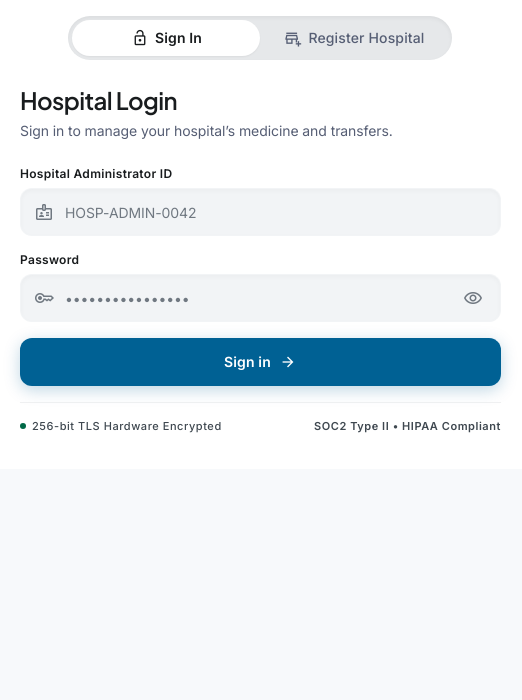
it: PulseGrid Control Tower Test Suite › AuthFormPanel Component › switches between Sign In and Register Hospital tabs
This screenshot has width=522, height=700.
Click the button "Register Hospital". click: point(354, 38)
box: [260,20,448,56]
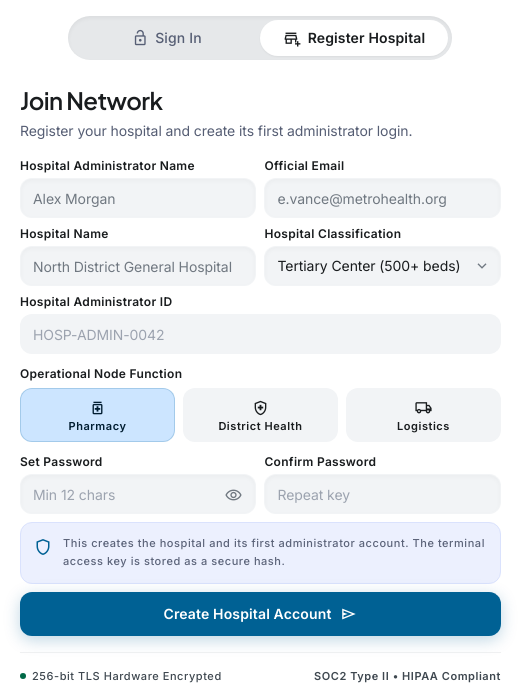
Result: the heading "Join Network" is shown at [20,85,162,115]
Result: the field labelled "Hospital Administrator Name" is shown at [20,178,256,218]
Result: the field labelled "Hospital Name" is shown at [20,246,256,286]
Click the button "Sign In". click: point(166, 38)
box: [72,20,260,56]
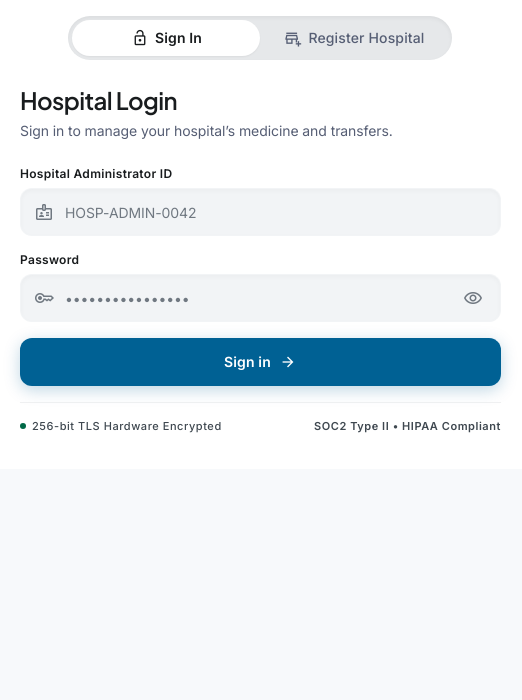
Result: the heading "Hospital Login" is shown at [20,85,177,115]
